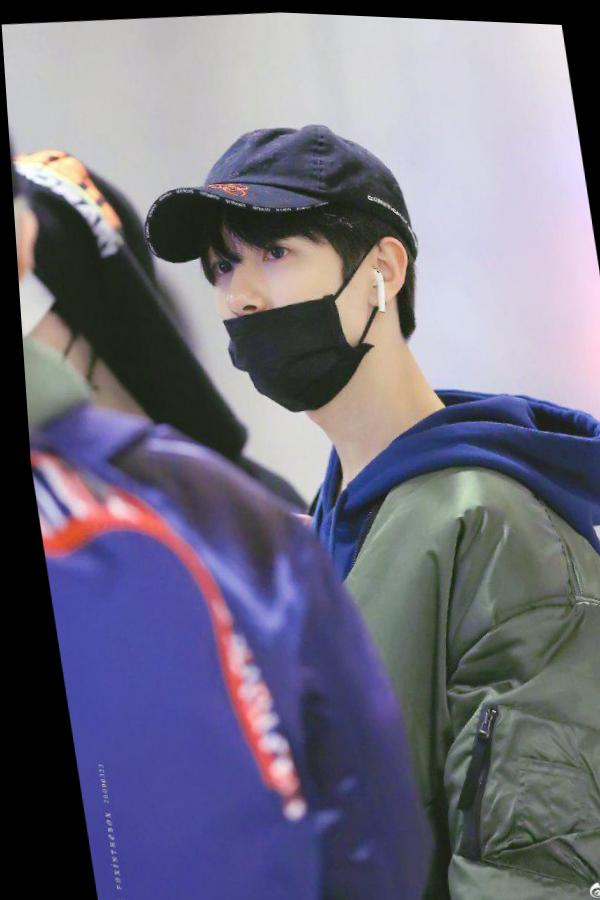WRONG: (196, 208, 363, 418)
